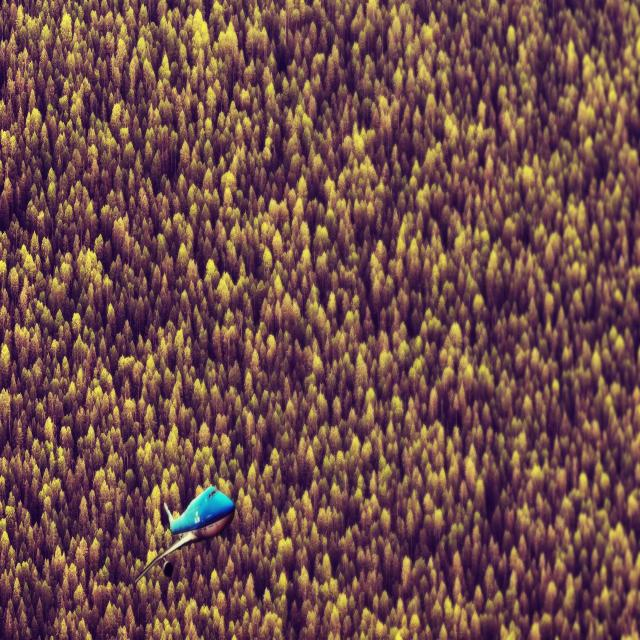airplane: (133, 484, 235, 588)
